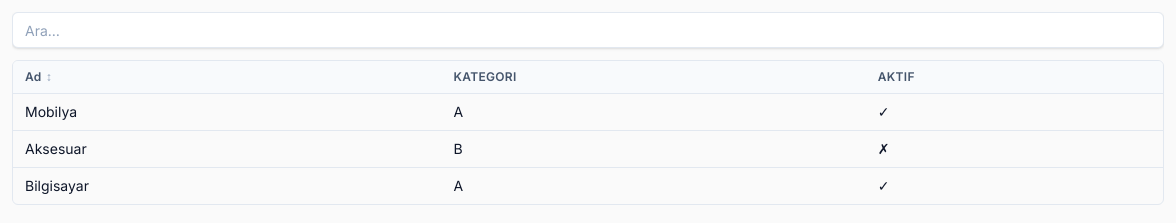
Scenario: ModuleList › 14. No results (search) → temizle butonu
The image size is (1176, 223).
In the field: (588, 30) [12,12,1164,48], type "zzzz"
Wait 350 ms
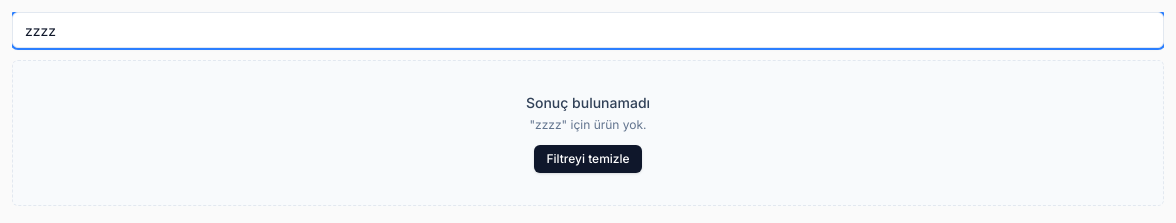
expect the text "Sonuç bulunamadı" is shown: met, box [526,94,650,111]
